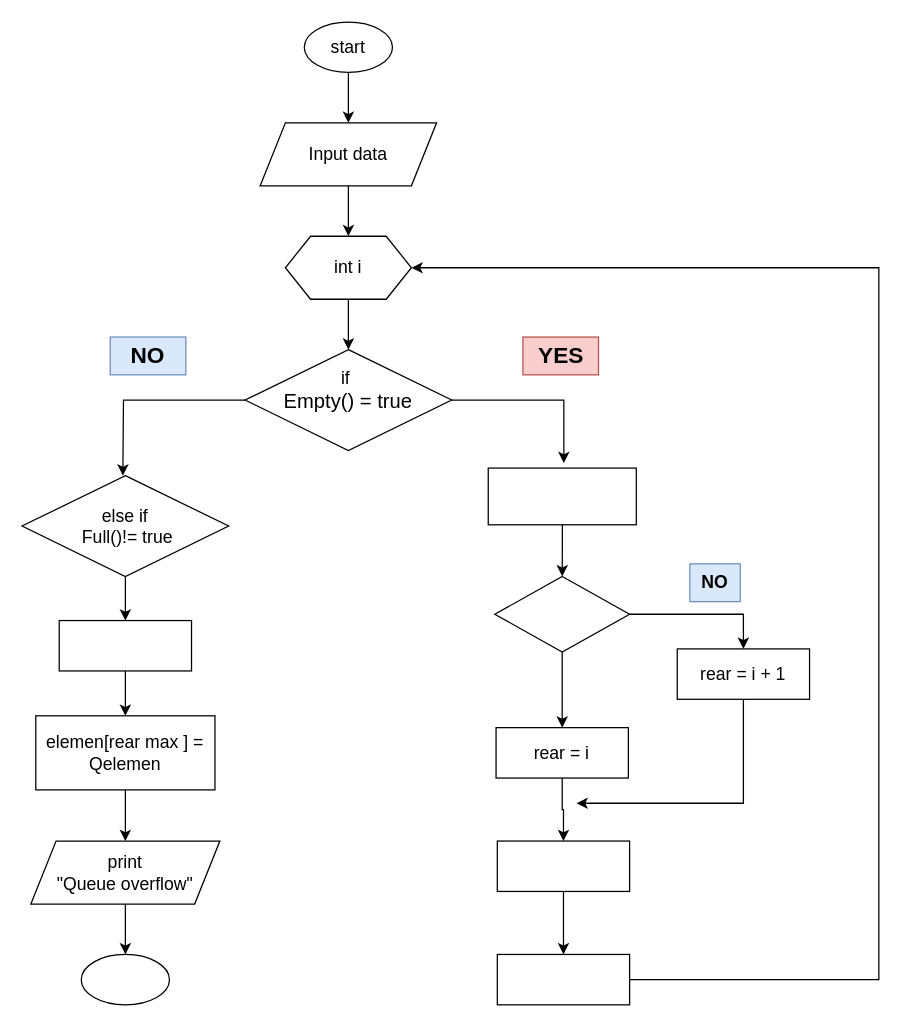
The diagram is 911 pixels wide and 1027 high, and some of its shapes have lost their labels. Each missing label, with the box of its shape:
End: (80, 953, 169, 1005)
front = i: (487, 467, 636, 525)
front = null: (494, 575, 630, 652)
i++: (496, 840, 630, 891)
rear = max: (58, 619, 192, 671)
return: (496, 953, 630, 1005)
